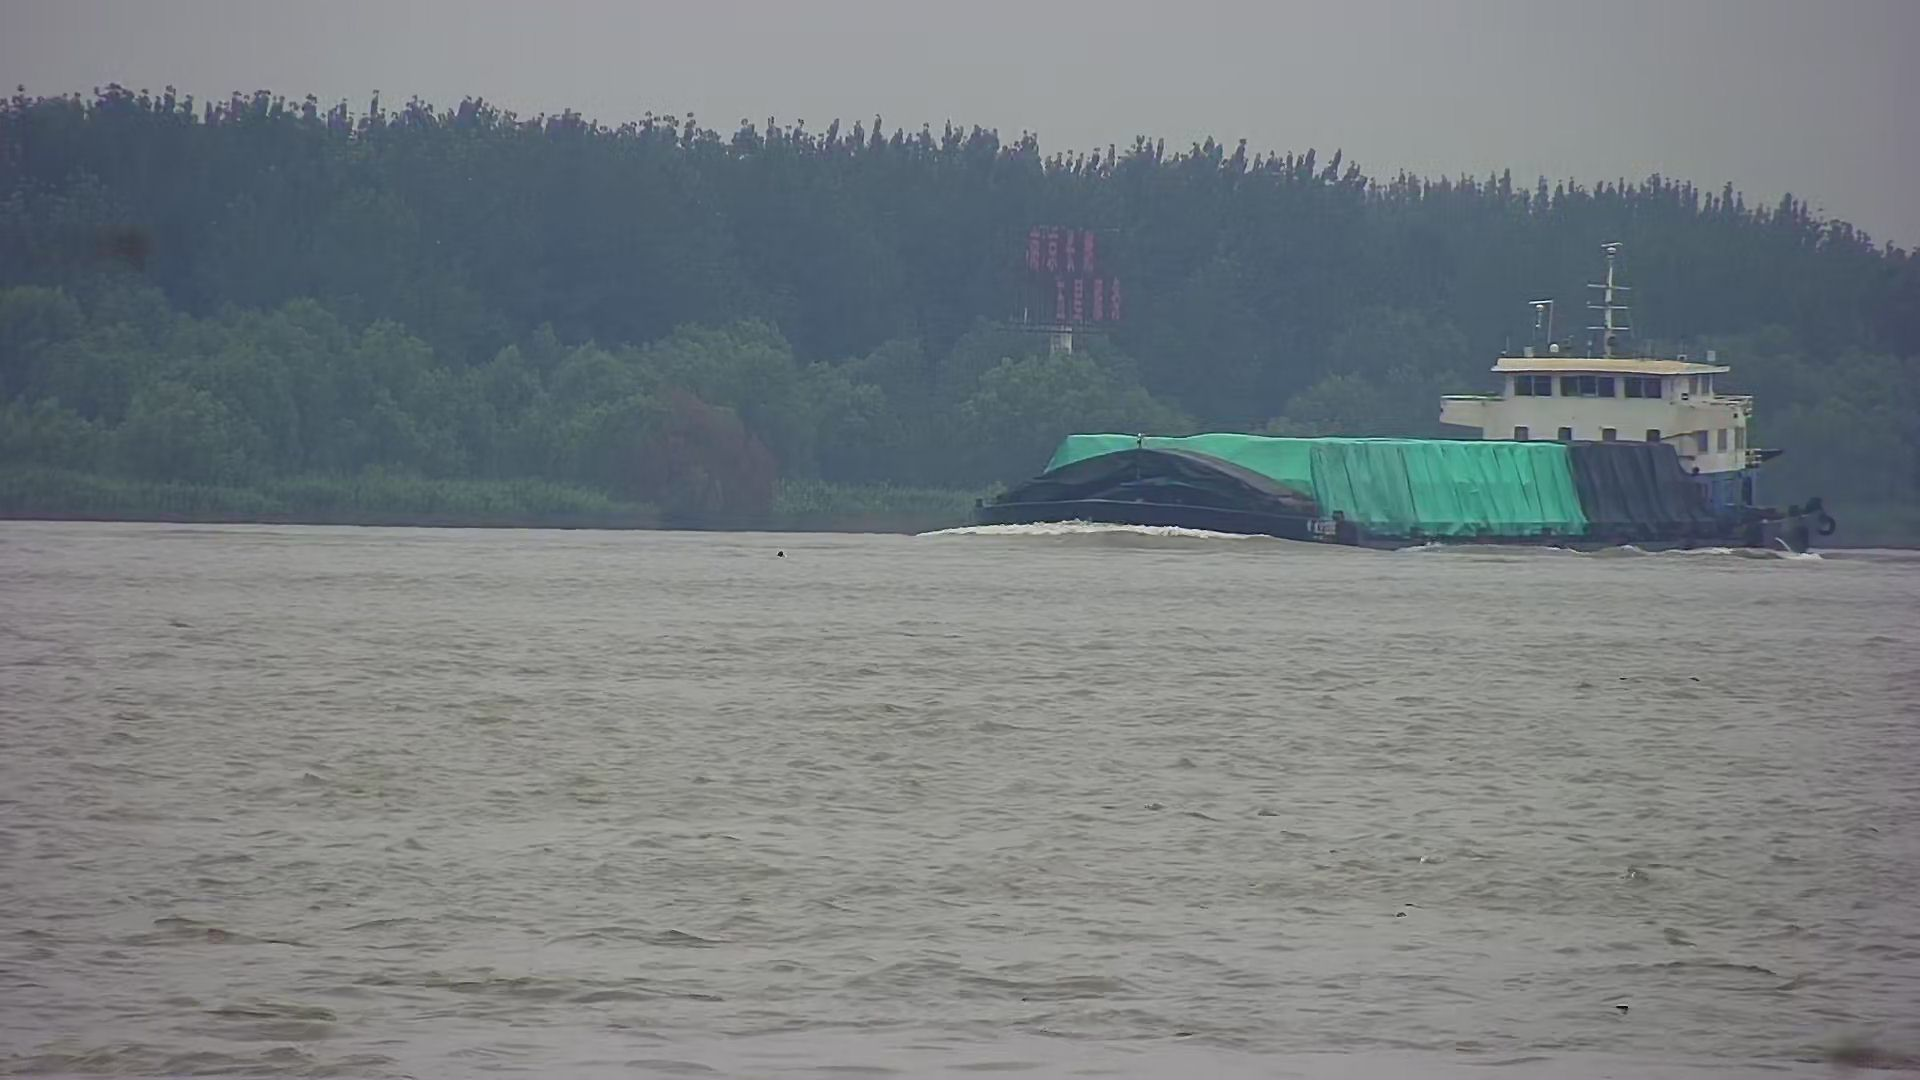ship: (944, 311, 1842, 564)
